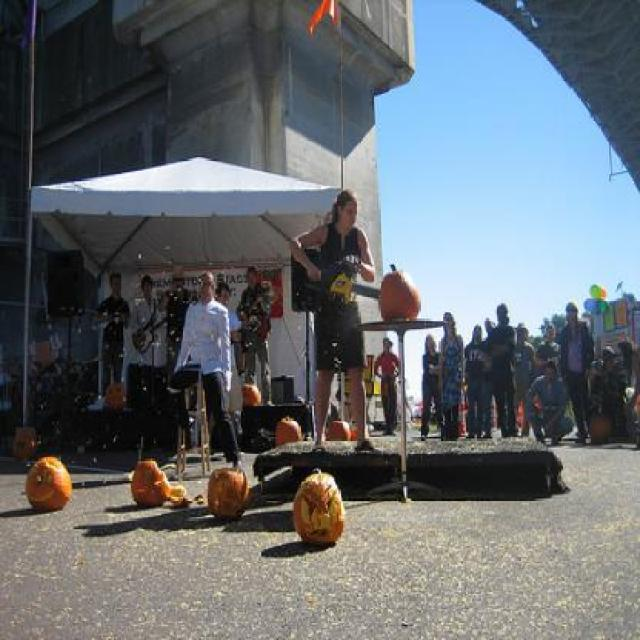Chainsaw: (304, 253, 382, 302)
